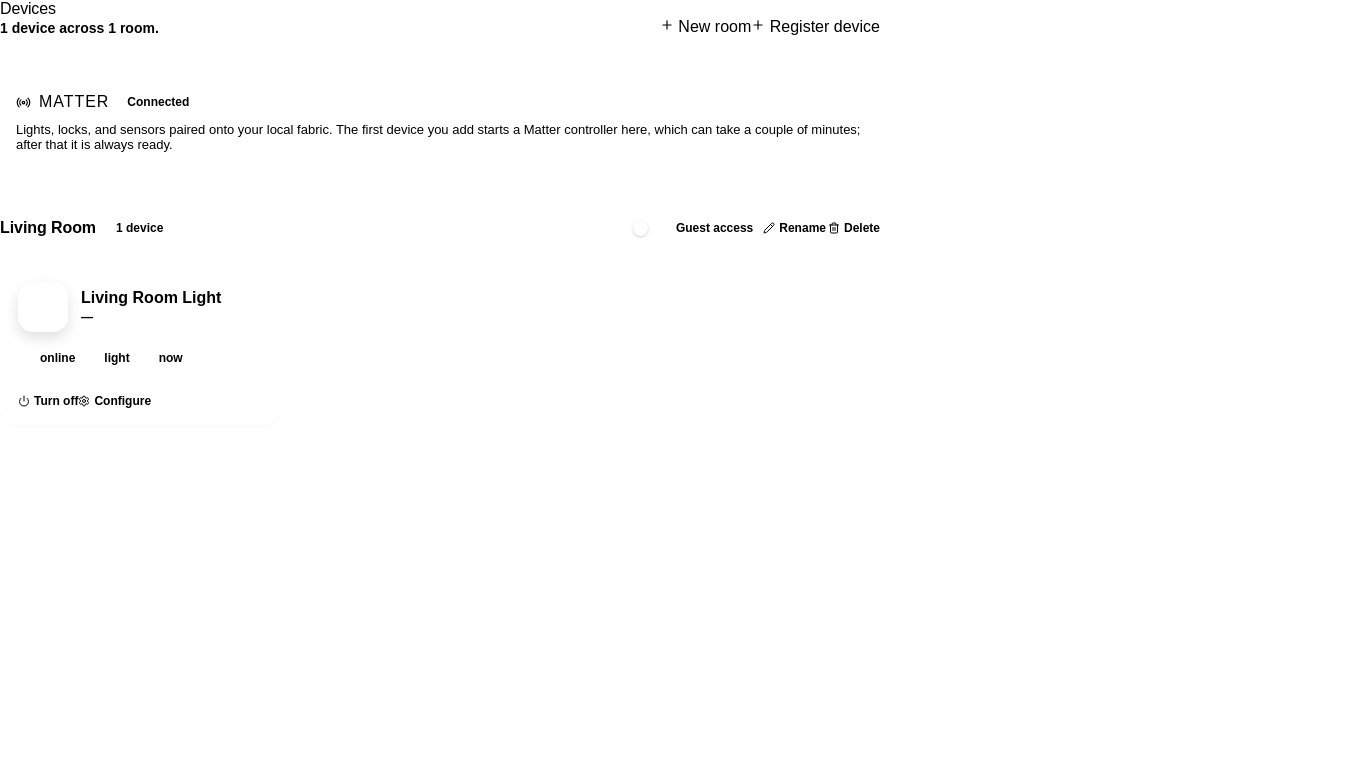
Test: Devices section — Configure modal › opens editable, pre-filled with the device's current name/hostname/room
This screenshot has width=1366, height=768.
expect the text "Living Room Light" is shown: met, box [81,289,221,306]
What coordinates should you click on to do the following:
click the button "Configure"
I would click on:
 (115, 401)
Its box is [78,394,151,408].
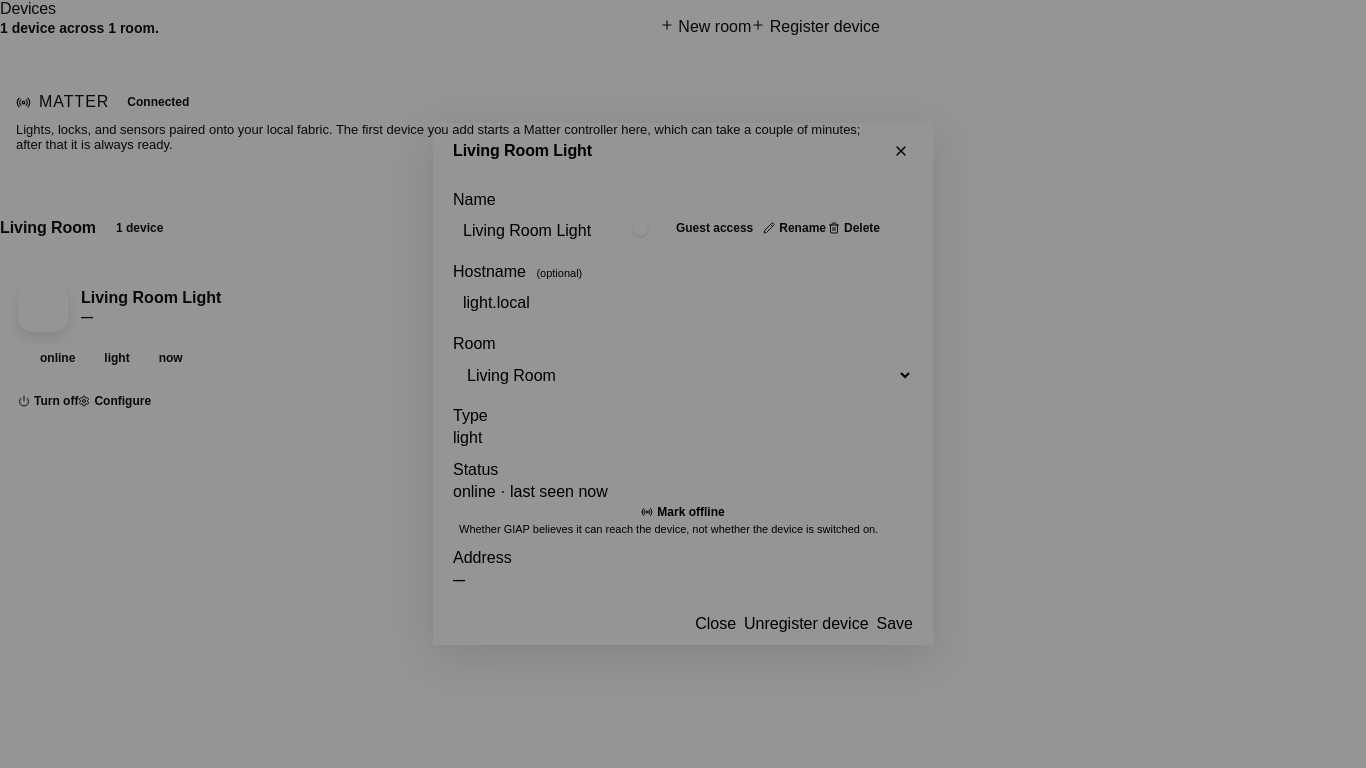
expect the field showing "light.local" below "Hostname" is shown: met, box [453,285,913,321]
